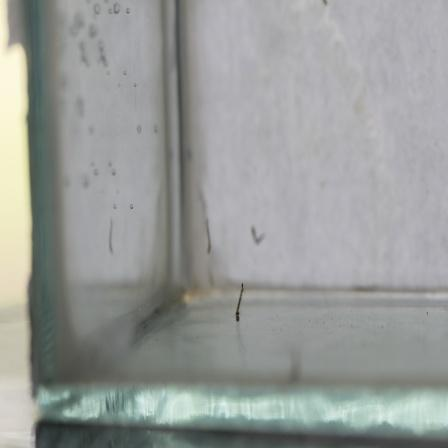Jentik-Nyamuk: (232, 281, 248, 324)
